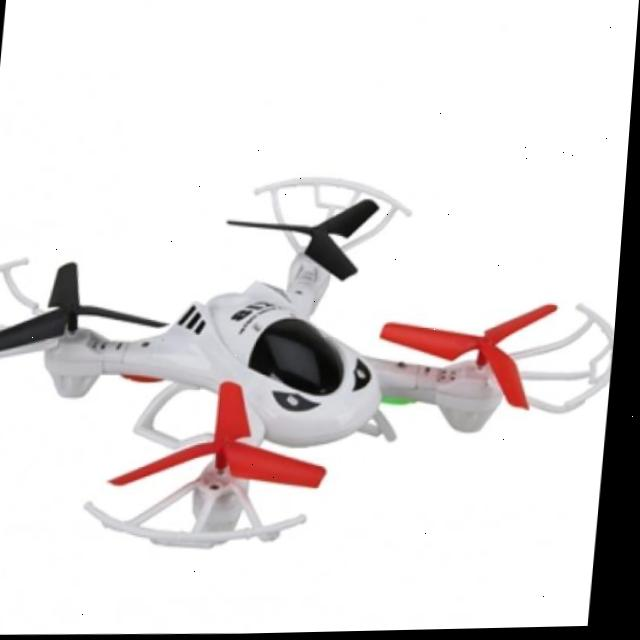drones: (0, 151, 631, 579)
